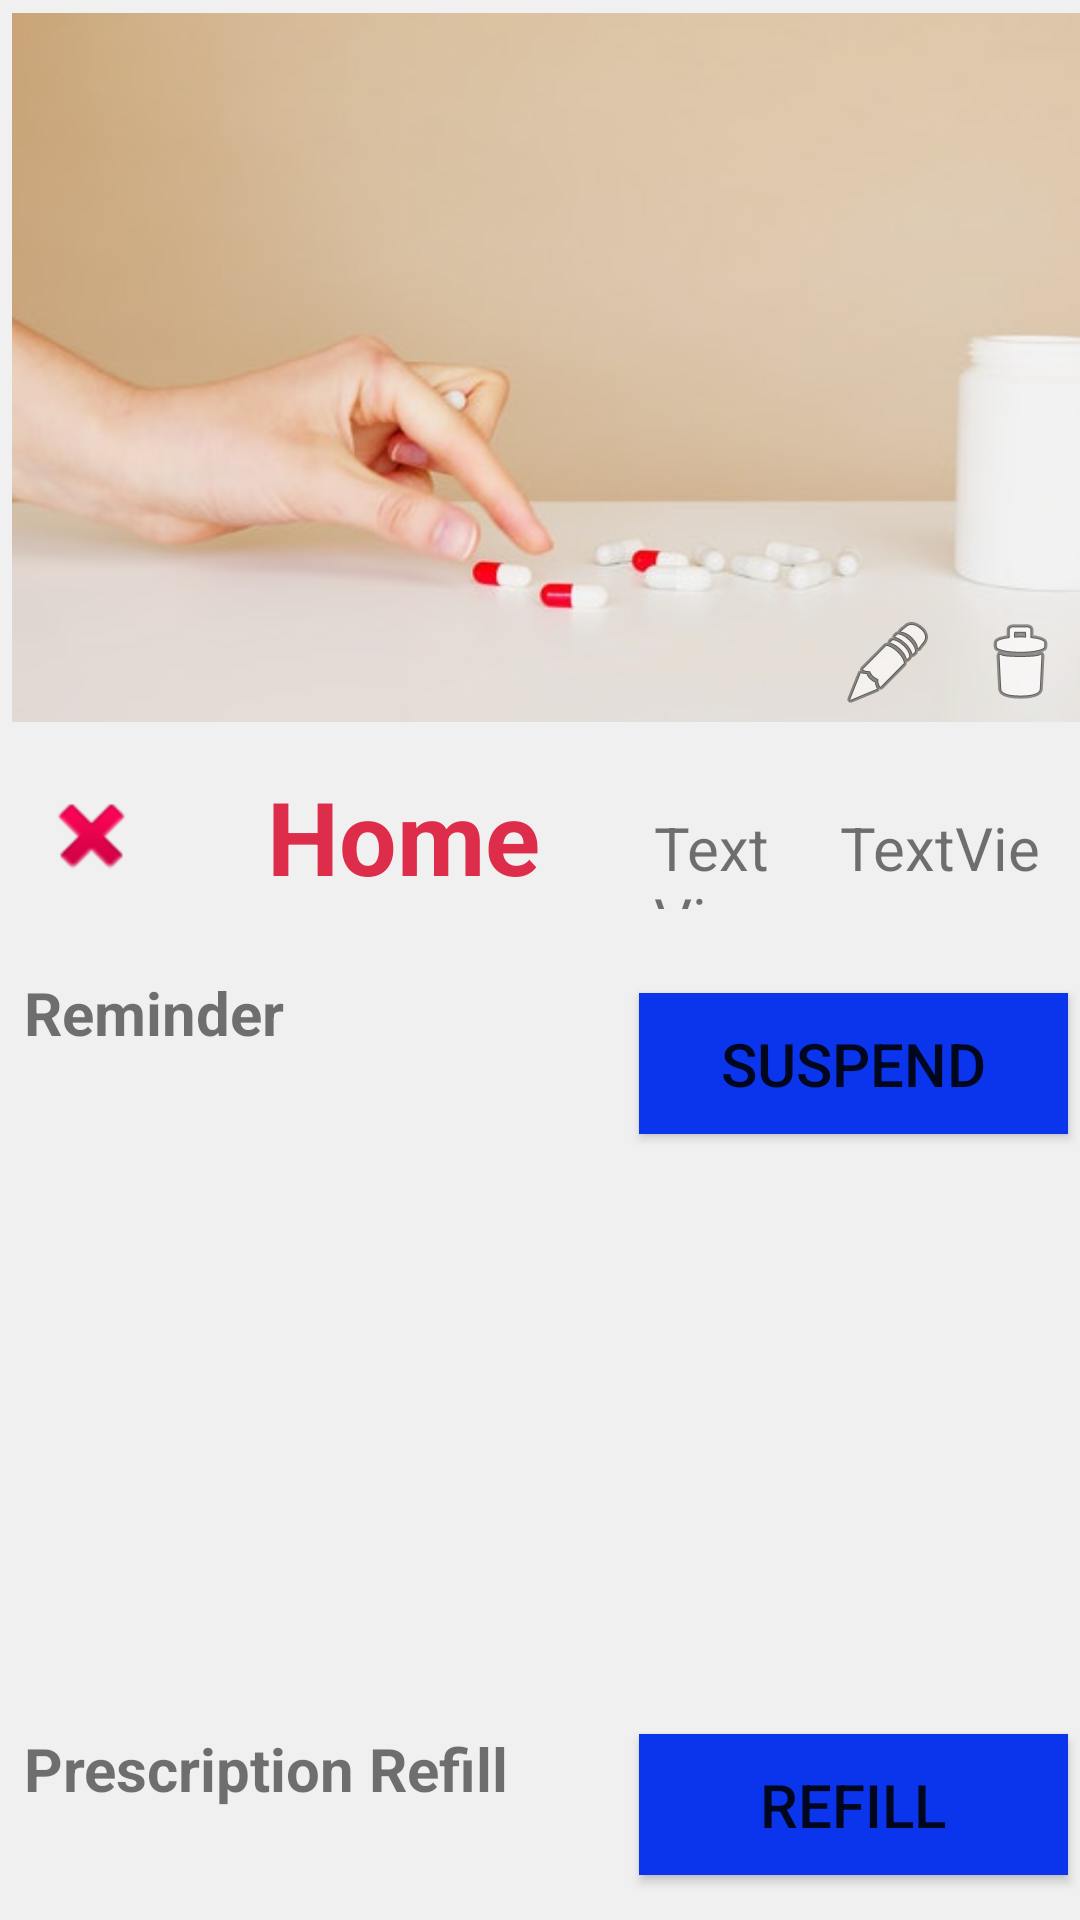

Icon bounding boxes for this 1080w x 1920h phone screenshot, format (x1, y1, x2, y2):
delete: (993, 624, 1048, 699), (58, 804, 125, 868)
edit: (847, 622, 928, 703)
